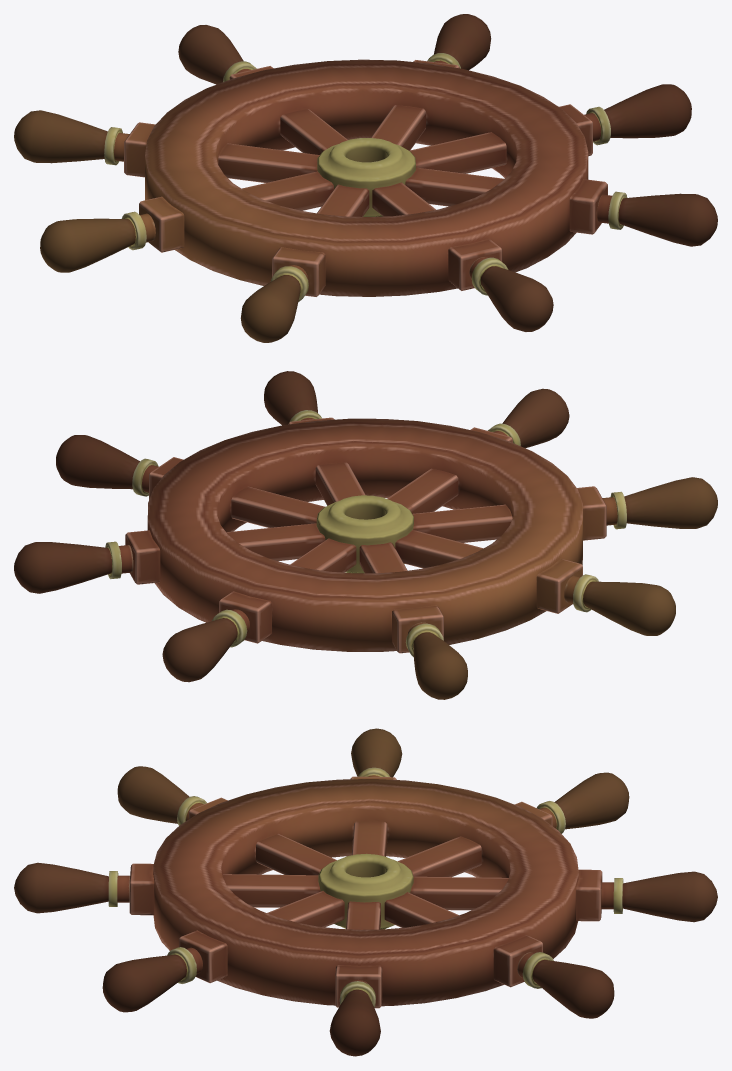
Rendered from ship_wheel.fbx.
The picture shows the model from 3 angles, top to bottom: view 1: azimuth 30°, elevation 25°; view 2: azimuth 150°, elevation 25°; view 3: azimuth 270°, elevation 25°; orthographic projection. The views are drawn at different scales.
Parts seen in each view (by area): view 1: ship_wheel; view 2: ship_wheel; view 3: ship_wheel.
Boxes of the visible parts, x1,y1,x2,y2 form: ship_wheel: (14,14,717,342); ship_wheel: (14,371,717,699); ship_wheel: (14,728,717,1056).
Bounding box in the file's own units: 151 × 11.99 × 151.
1 material, 1 textured.
